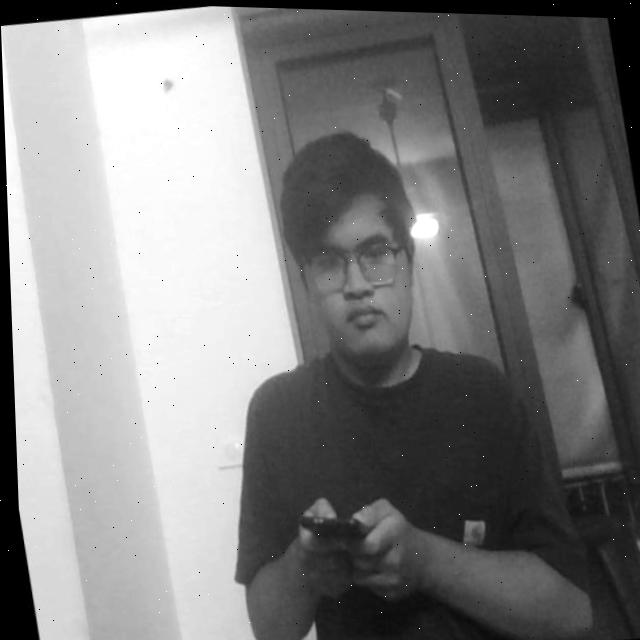phone: (284, 482, 396, 577)
